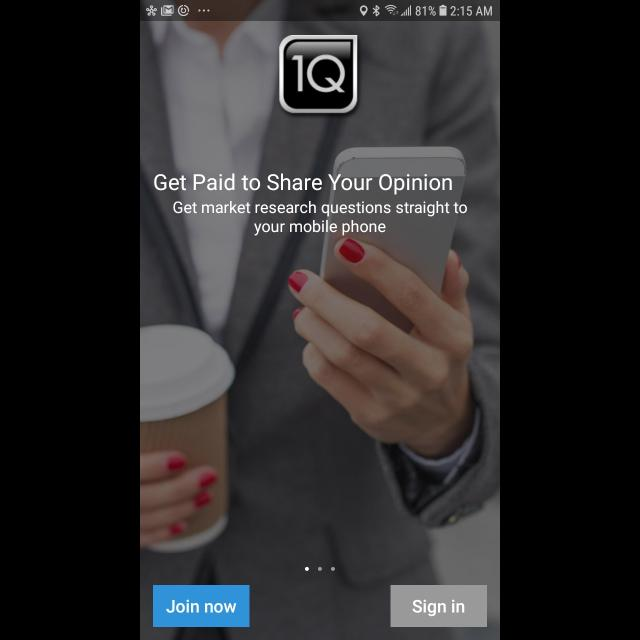backgroundimage: (140, 22, 500, 640)
image: (278, 36, 358, 114)
pageindicator: (304, 566, 336, 572)
text: (173, 202, 467, 236), (154, 173, 452, 195)
textbutton: (390, 585, 488, 627), (154, 585, 250, 627)
uppertaskbar: (140, 1, 500, 22)
